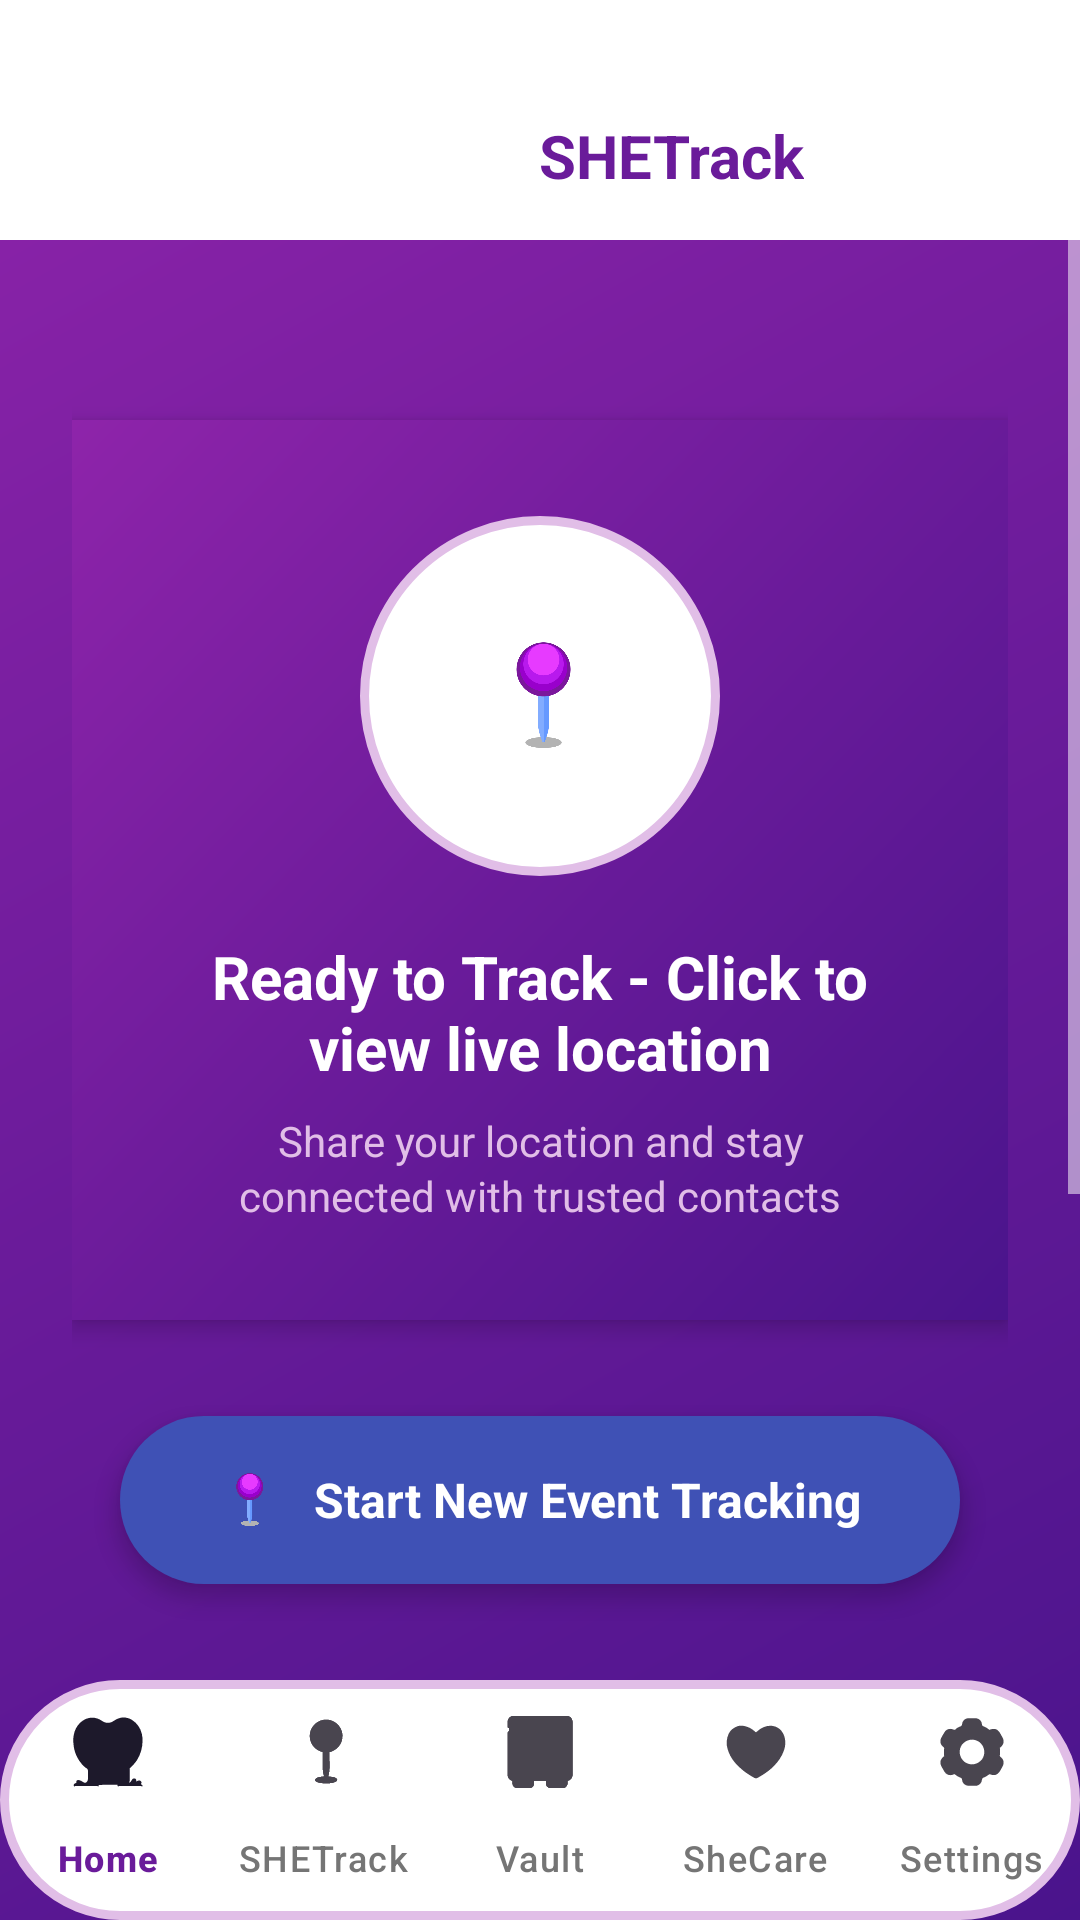

Screen size 1080w x 1920h. Icon name, then its center in pixels as point (x, y):
location: point (543, 695), point (249, 1499)
